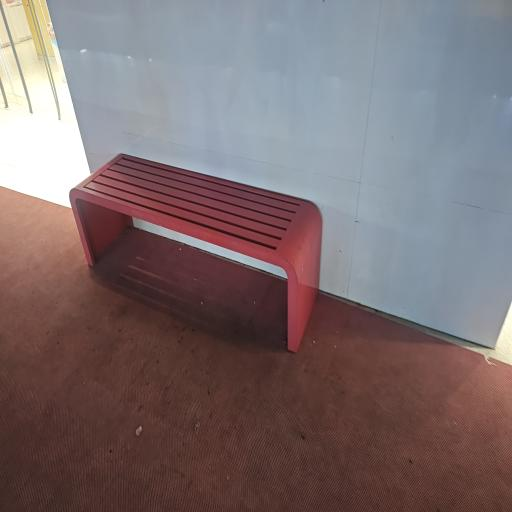chair: (159, 191, 481, 395)
